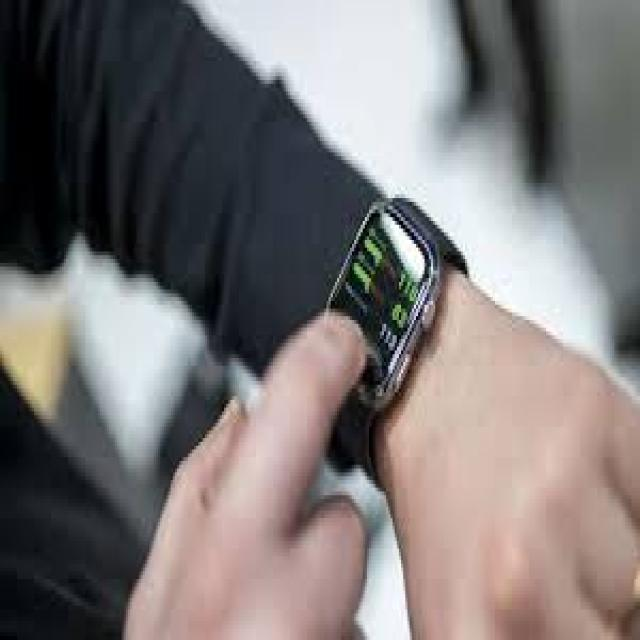objects: (310, 188, 454, 427)
